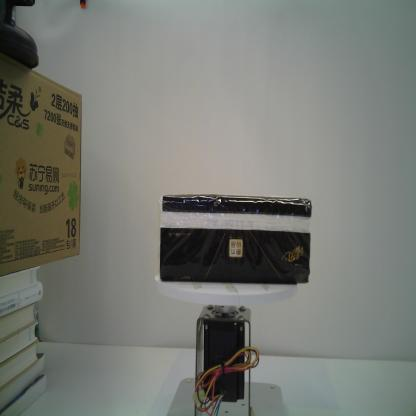Tissue: (157, 193, 313, 286)
